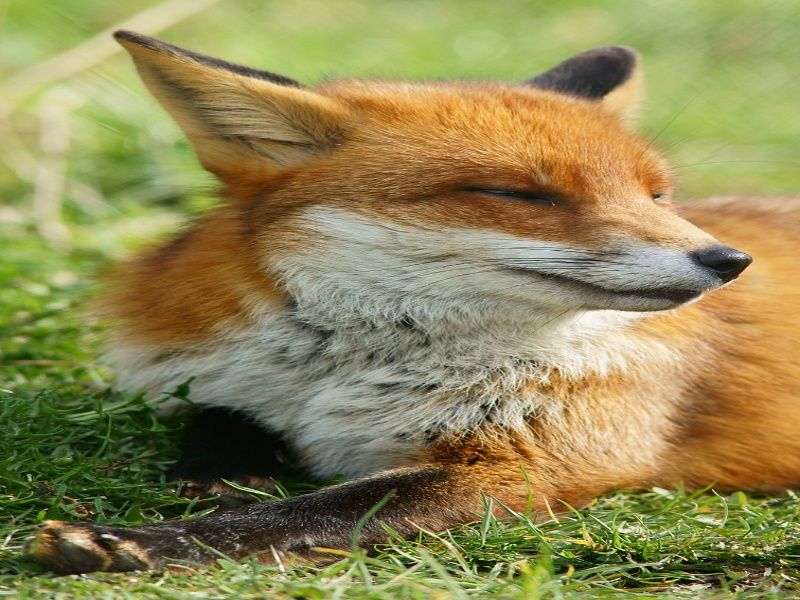fox: (26, 22, 800, 577)
